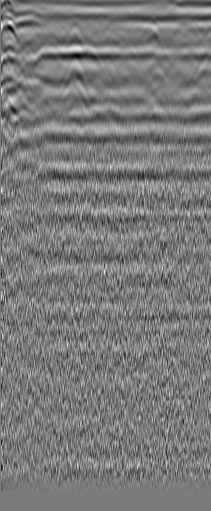오수: (42, 31, 60, 53)
우수: (167, 23, 201, 47)
